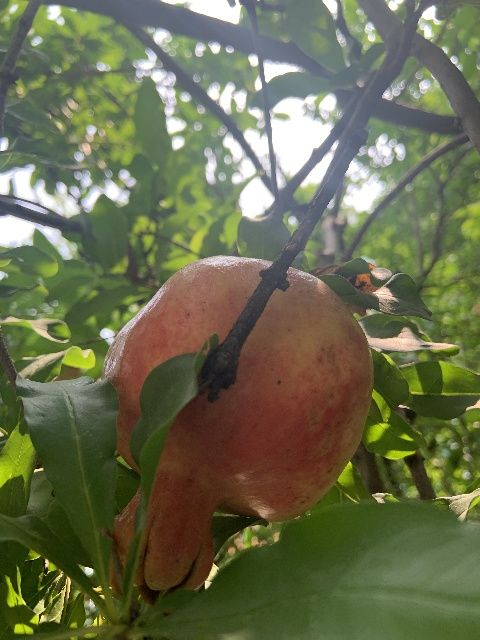ripe: (103, 255, 373, 601)
